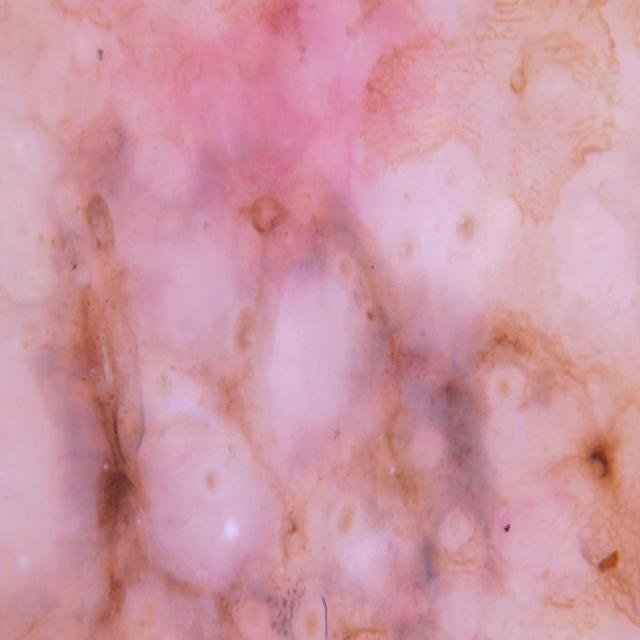Keratosis: (22, 100, 521, 640)
